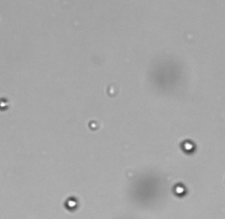Dead Cell: (88, 118, 99, 130)
Living Cell: (64, 196, 78, 211), (180, 140, 196, 152), (174, 182, 186, 197), (1, 97, 8, 112)
